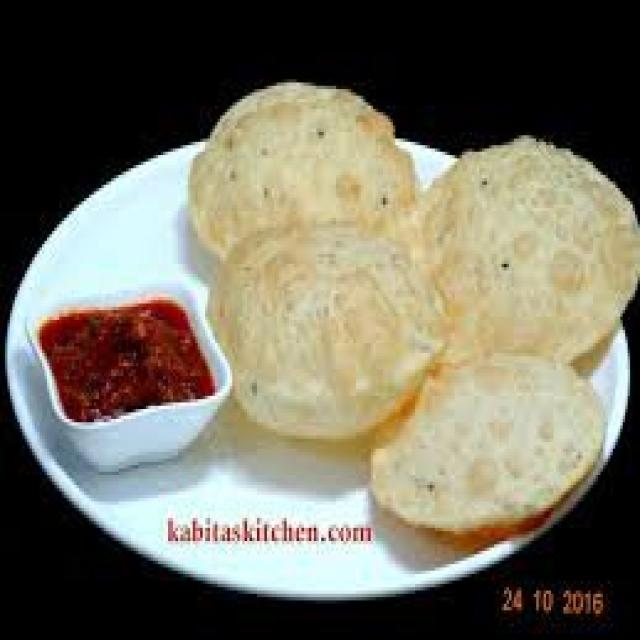puri: (182, 122, 640, 555)
